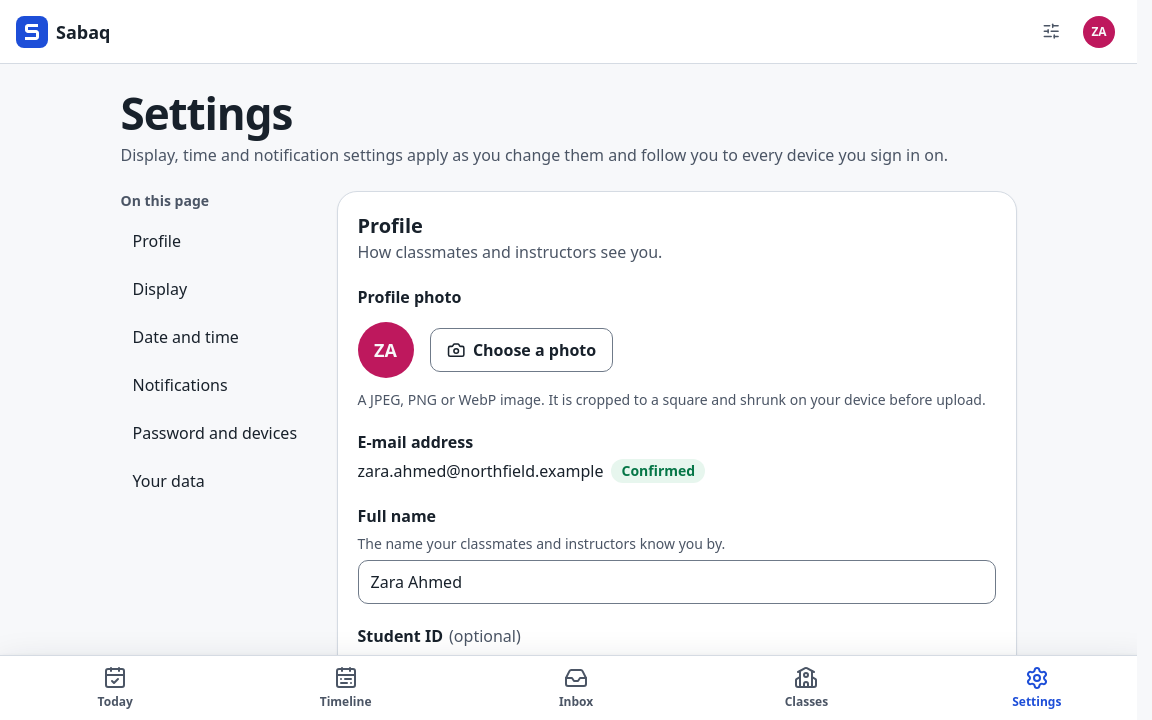
Scenario: settings › saves the profile and clears an emptied student ID
This screenshot has width=1152, height=720.
Expected: the text "zara.ahmed@northfield.example" is shown, x1=358 y1=459 x2=604 y2=484
Expected: the text "Confirmed" is shown, x1=612 y1=459 x2=705 y2=483
Step 1. Replace the text in the field labelled "Full name" with "Zara A. Khan" → coordinates (676, 582), box x1=358 y1=560 x2=996 y2=604
(page scrolled)
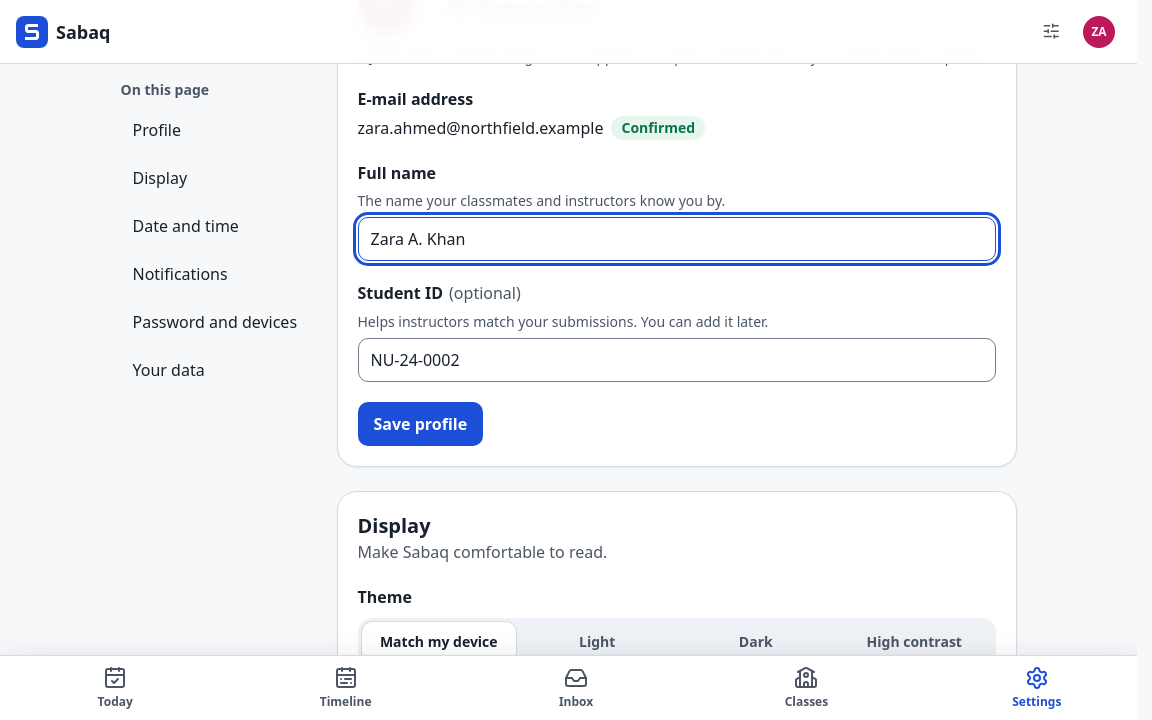
Step 2. Clear the field labelled "Student ID(optional)" → coordinates (676, 360), box x1=358 y1=338 x2=996 y2=382
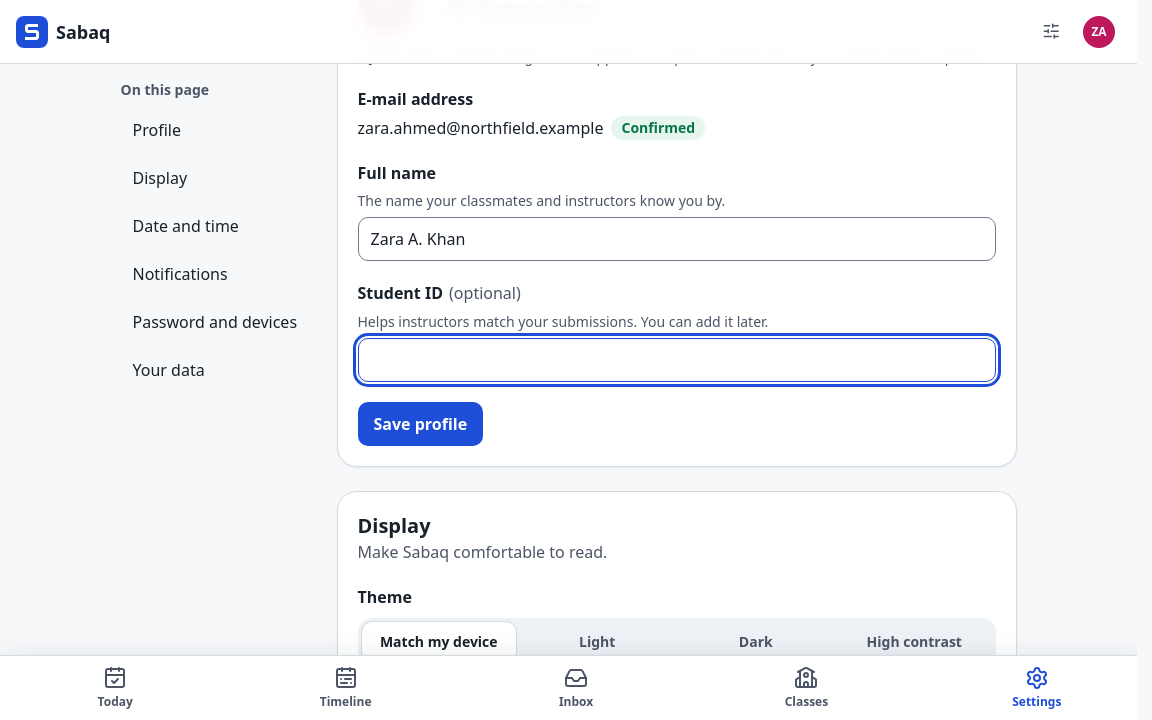
Step 3. Click the button "Save profile" → coordinates (420, 424), box x1=358 y1=402 x2=483 y2=446
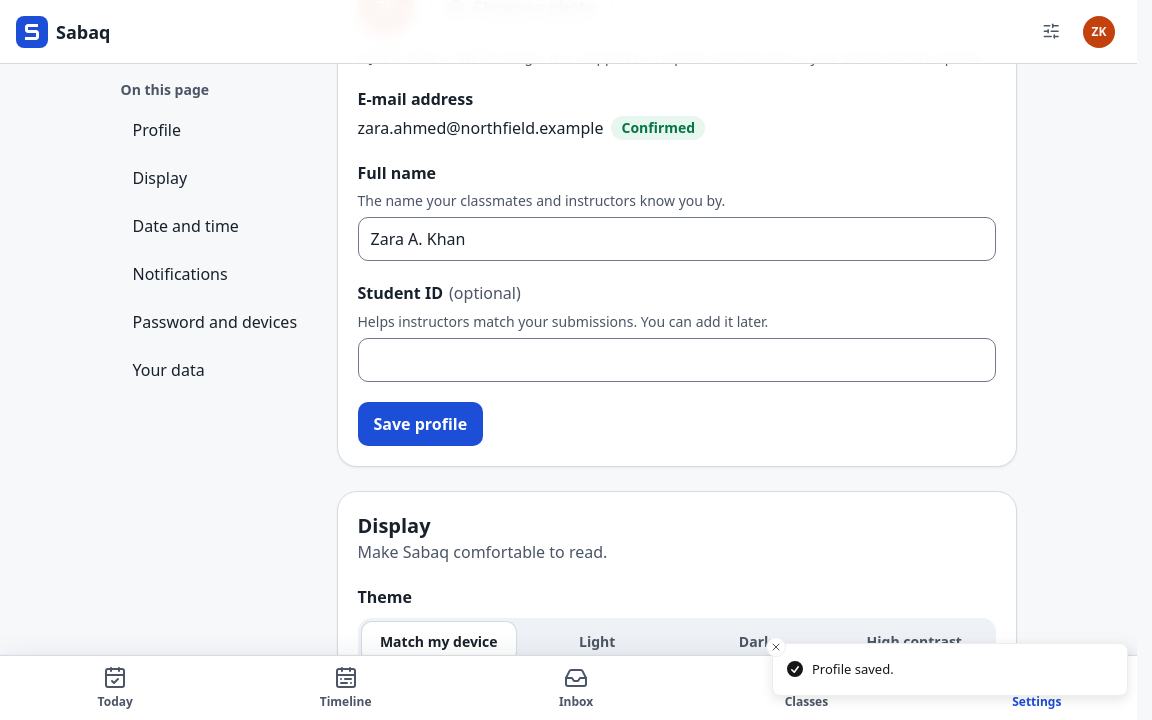
Expected: the text "Profile saved." is shown, x1=812 y1=660 x2=894 y2=679
